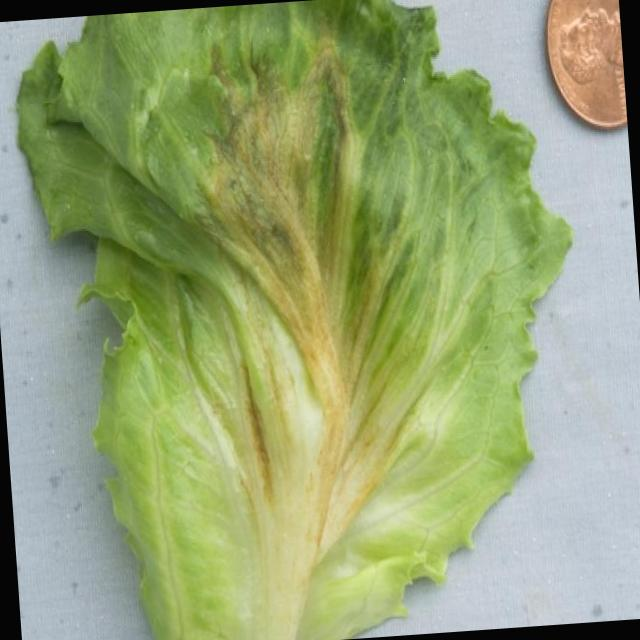Downy_Mildew: (161, 193, 426, 558)
